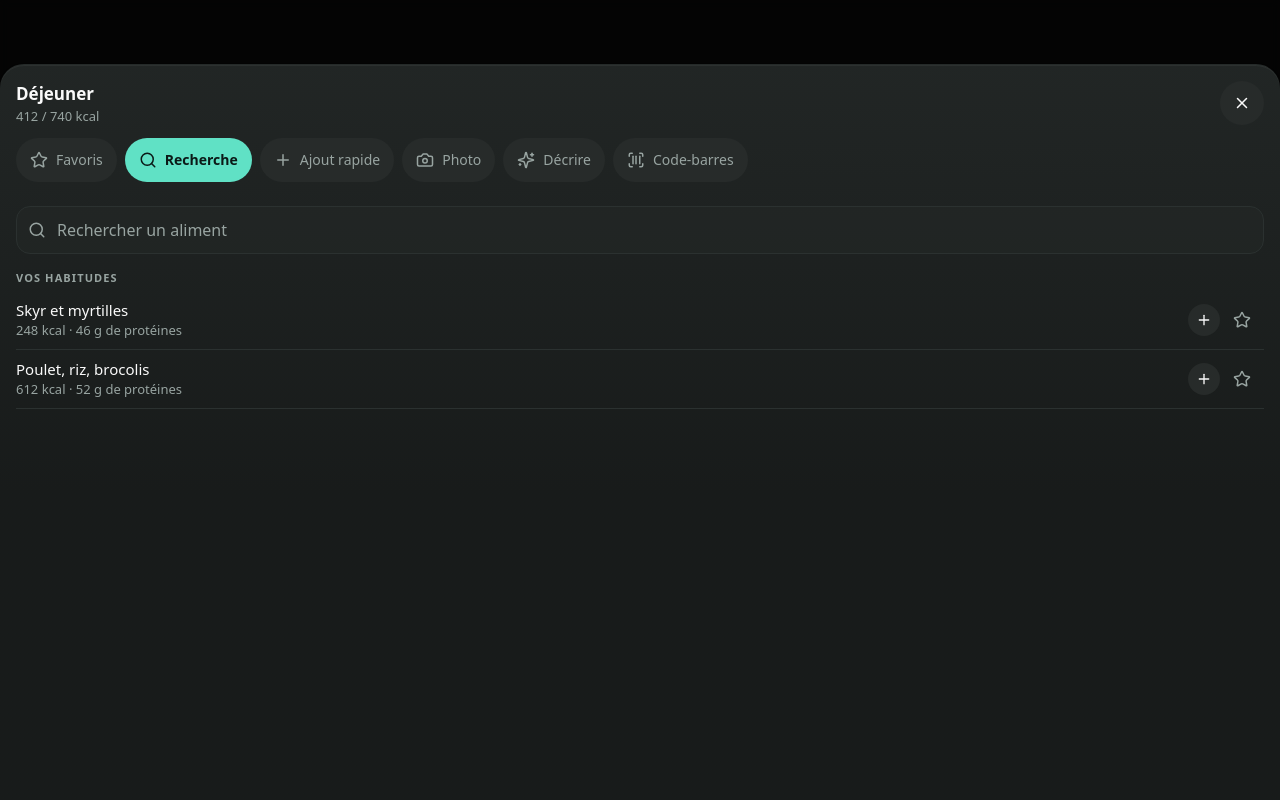
it: AddSheet — favoris › dit quoi faire quand l’onglet est vide
Click the tab "Favoris". click: {"x": 66, "y": 160}
box: [16,138,117,182]
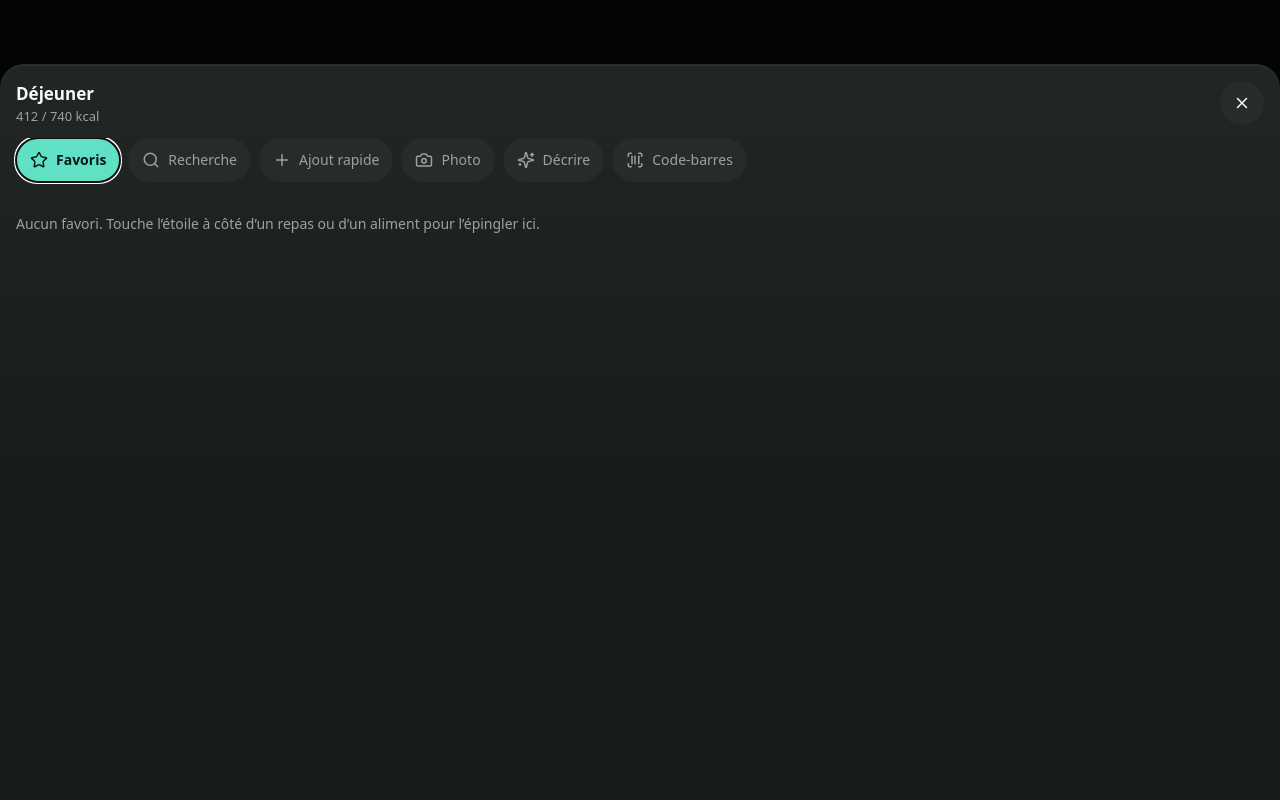
expect the text "Aucun favori. Touche l’étoile à côté d’un repas ou d’un aliment pour l’épingler ici." is shown: met, box [16,214,540,233]
